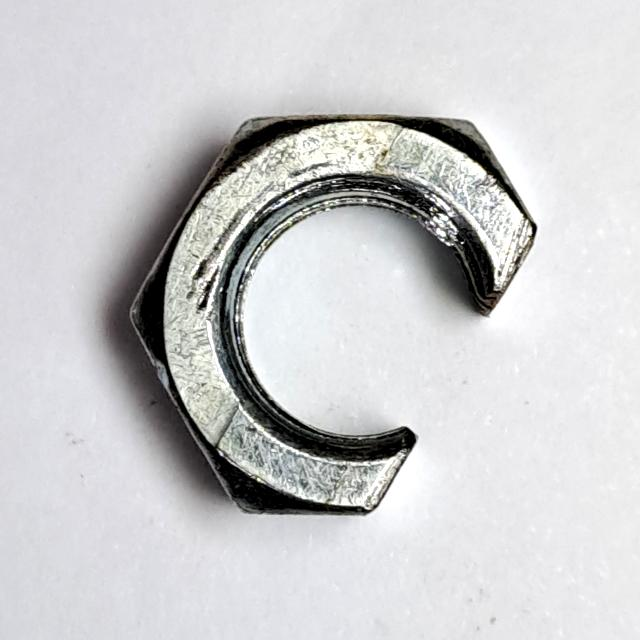Fracture: (115, 102, 548, 530)
